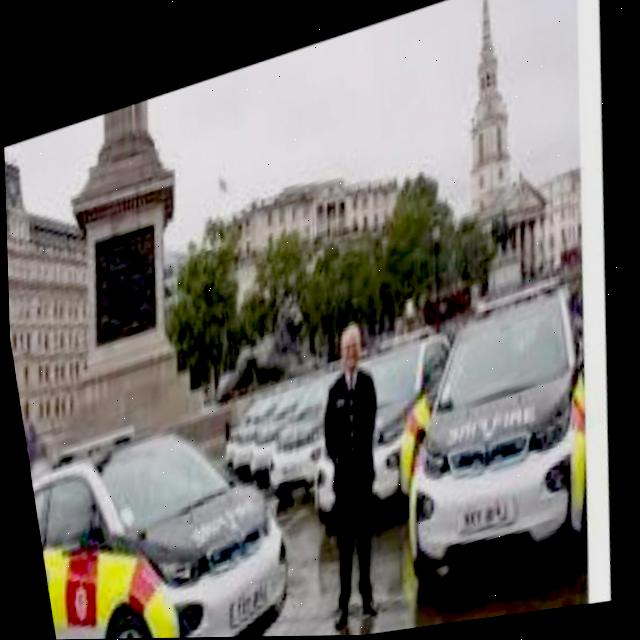emergency: (368, 280, 612, 596), (21, 402, 300, 640)
